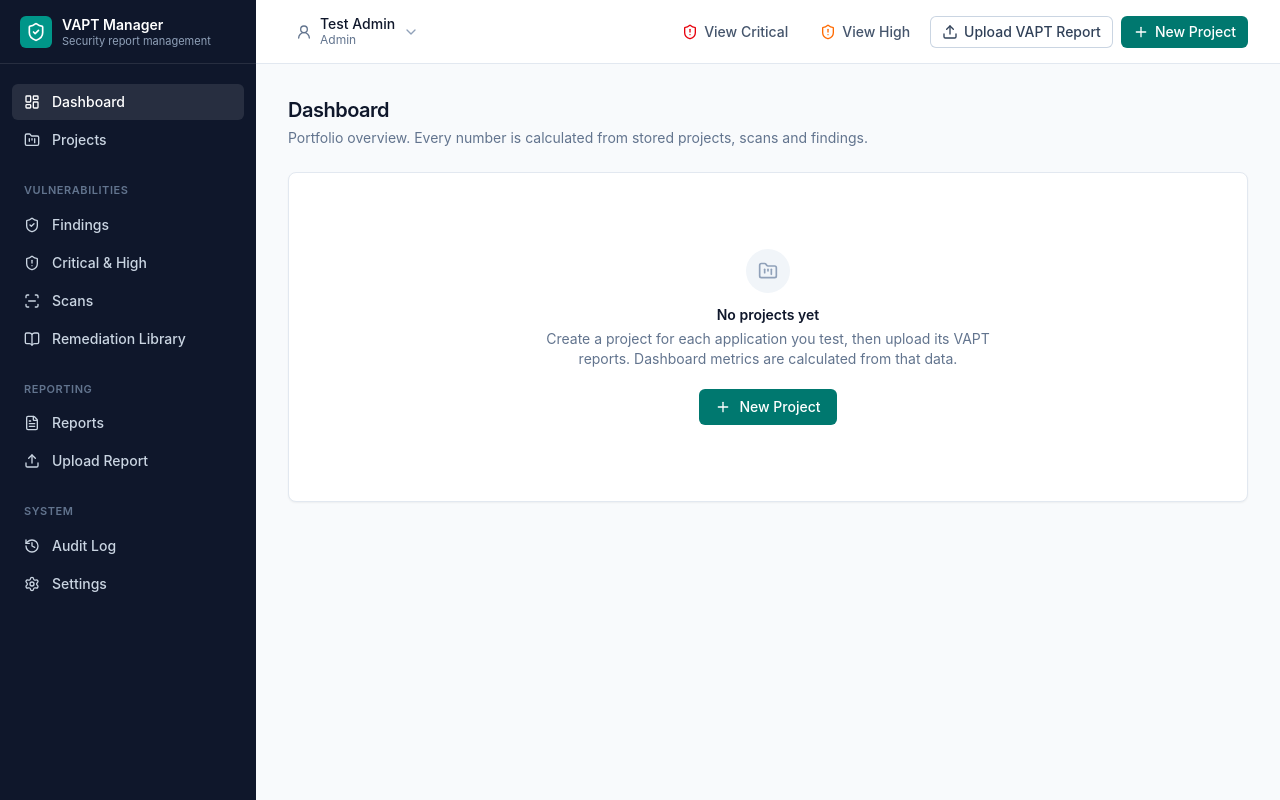
Test case: Sign-in › signs out from the account menu
Click the button with aria-label "Account: Test Admin (Admin)". click: coordinates (358, 32)
box: [288,9,427,54]
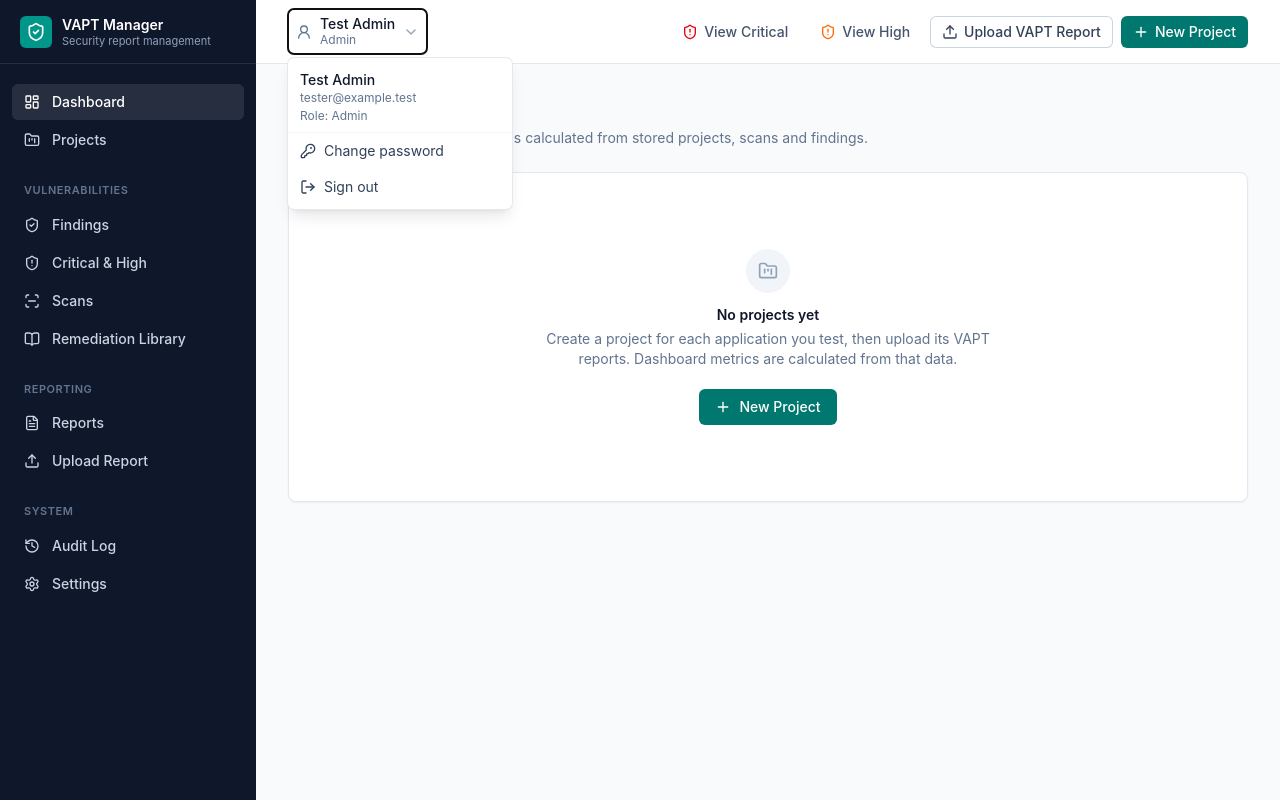
Check: the menu shows "Role: Admin", box [288,58,512,209]
Click the menu item "Sign out". click: coordinates (400, 187)
box: [288,169,512,205]
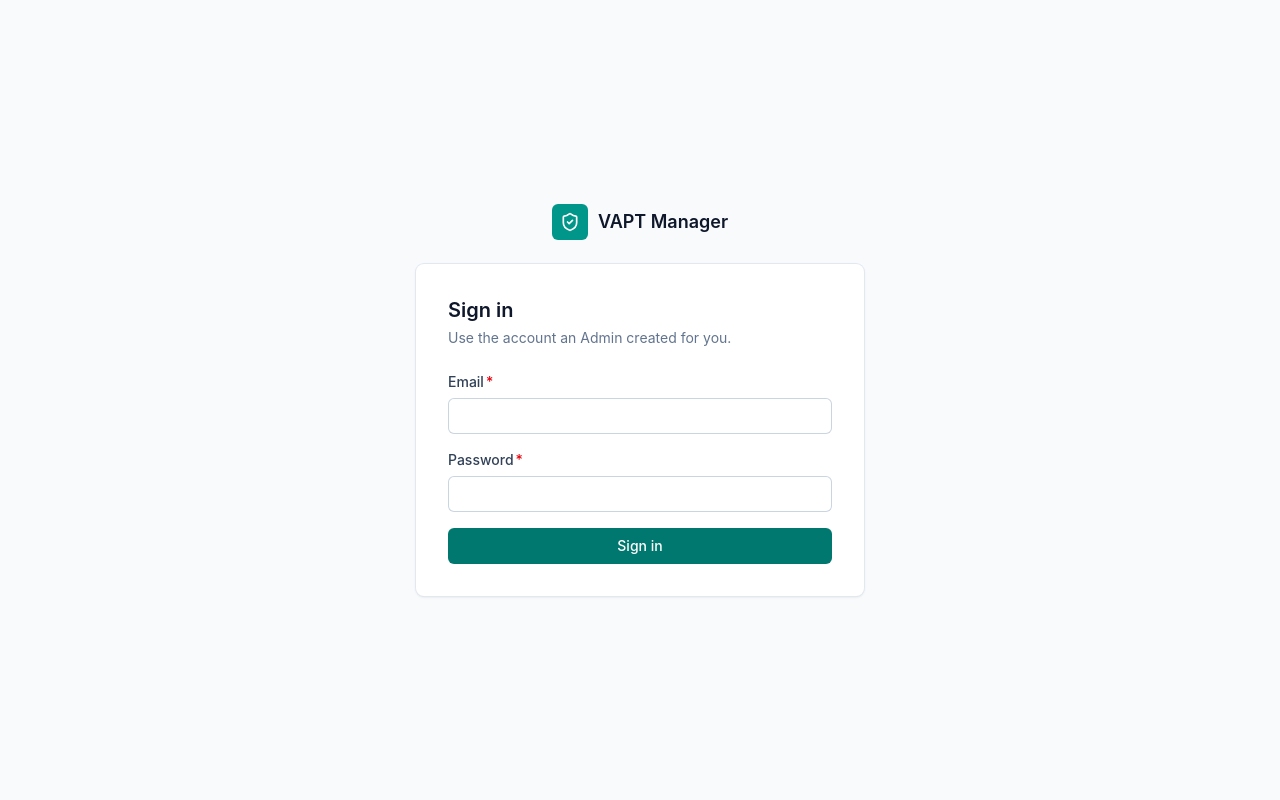
Check: the heading "Sign in" is shown, box [448,298,514,322]
